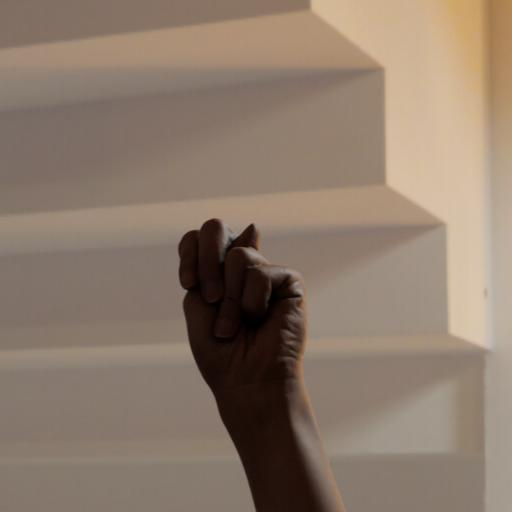N: (158, 189, 334, 407)
